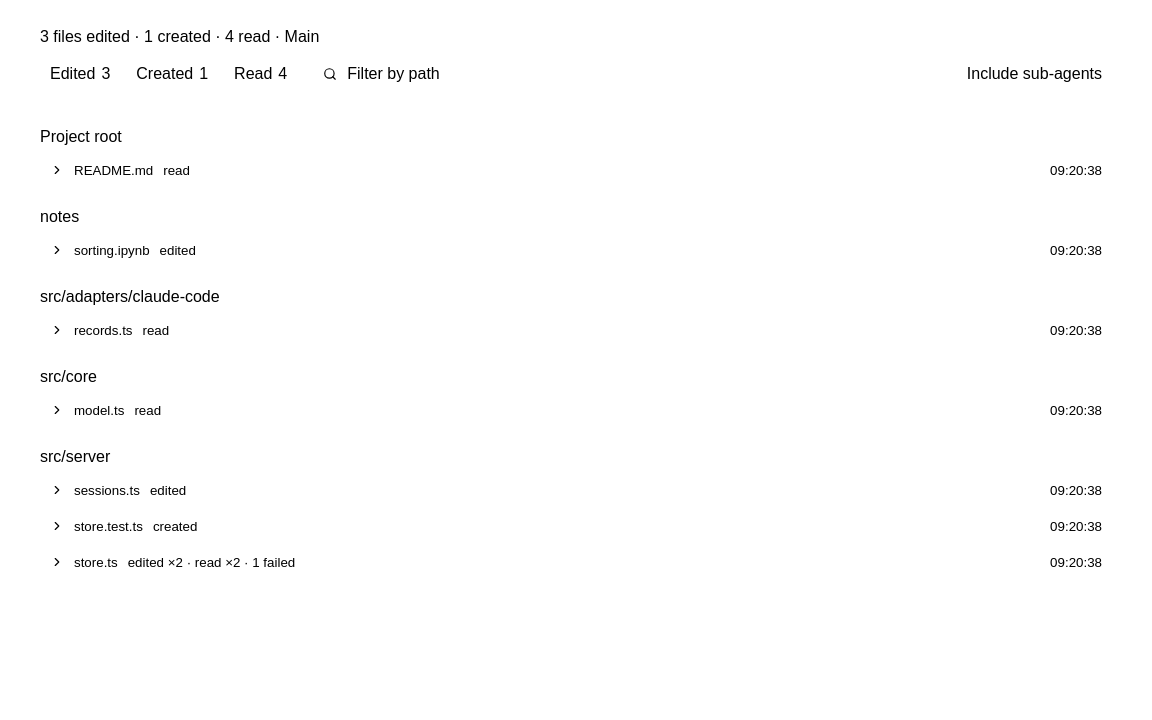
Test: FilesView › includes the sub-agents’ files until the toggle leaves them out, and remembers that
expect the text "3 files edited · 1 created · 4 read · Main" is shown: met, box 40,28 -> 319,45
Click the button "Include sub-agents" at [1034, 74], box 957,60 -> 1112,88
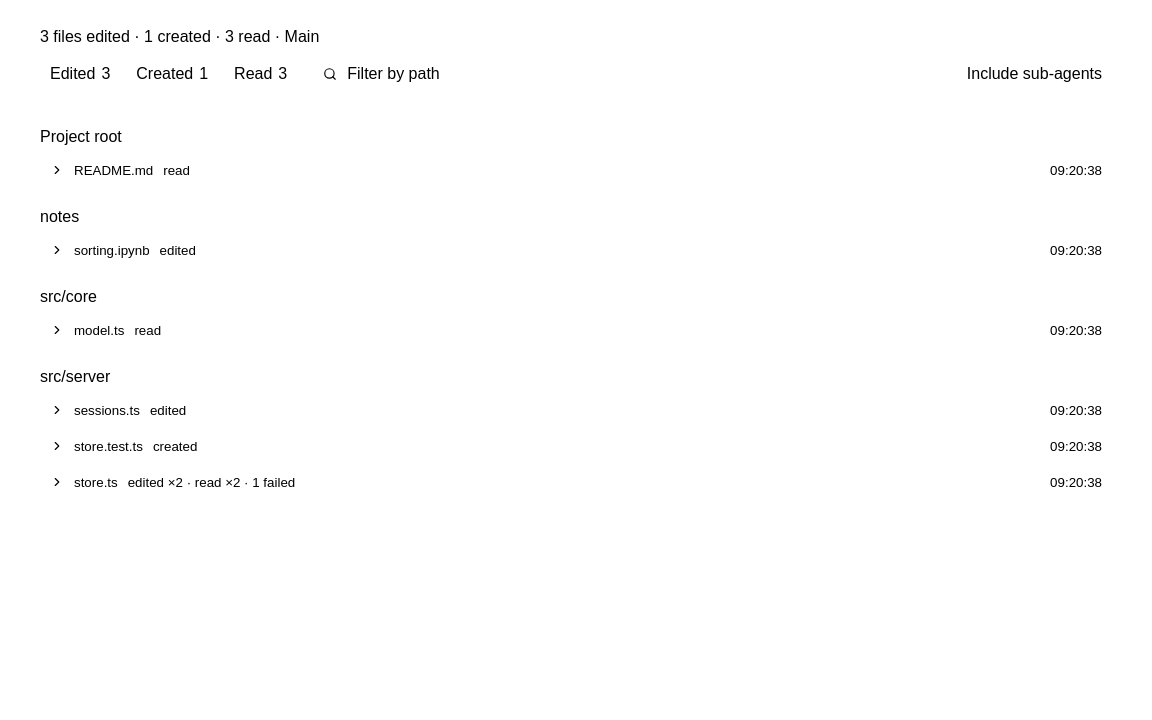
expect the button "records.ts" no longer shows "records.ts": met
expect the text "3 files edited · 1 created · 3 read · Main" is shown: met, box 40,28 -> 319,45
